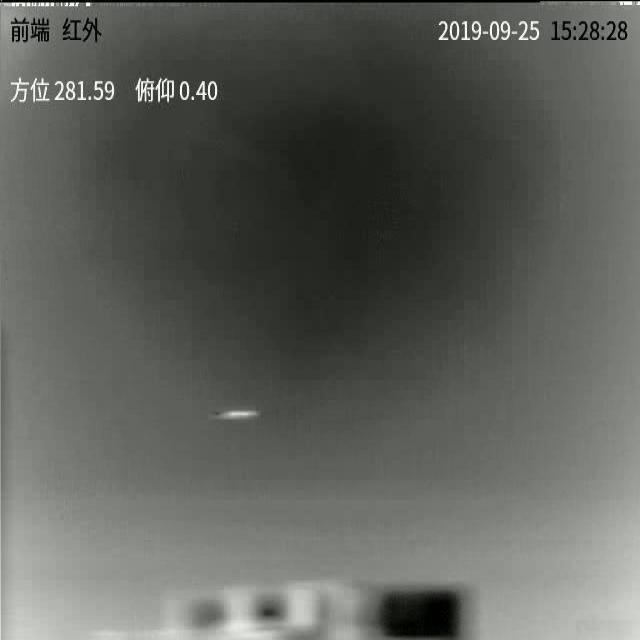drone: (207, 409, 260, 421)
